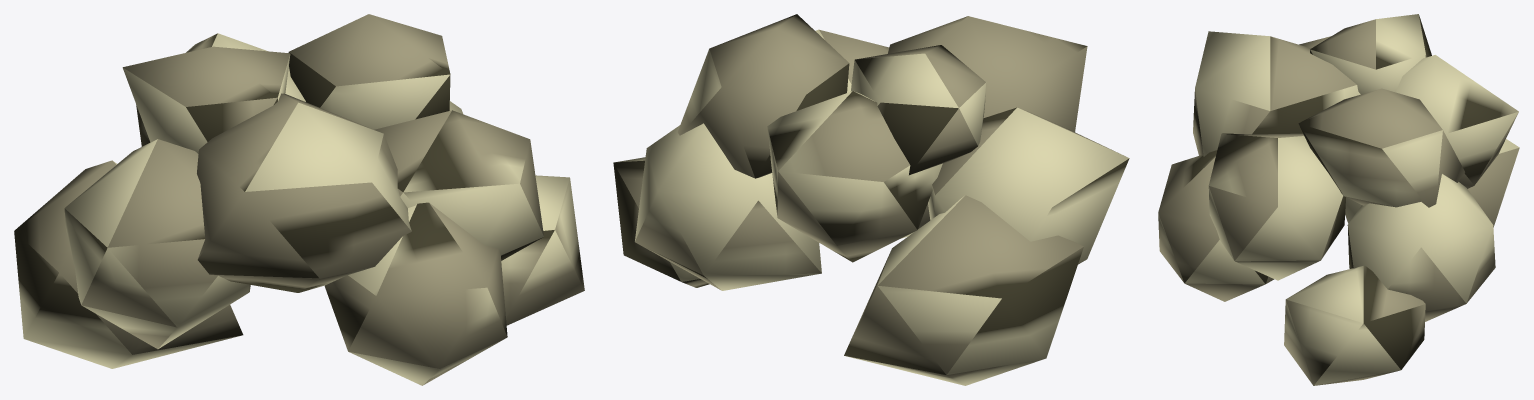
The model's file is bush_v2.fbx.
3 renders of one model, left to right at view 1: azimuth 30°, elevation 25°; view 2: azimuth 150°, elevation 25°; view 3: azimuth 270°, elevation 25°, orthographic. The views are drawn at different scales.
Parts seen in each view (by area): view 1: prop; view 2: prop; view 3: prop.
Part boxes in pixels (left/top/right/bottom): prop: left=14, top=14, right=584, bottom=385; prop: left=613, top=14, right=1129, bottom=385; prop: left=1158, top=14, right=1519, bottom=385.
Size of the model in its own units: 0.8156 by 0.4938 by 0.6221.
